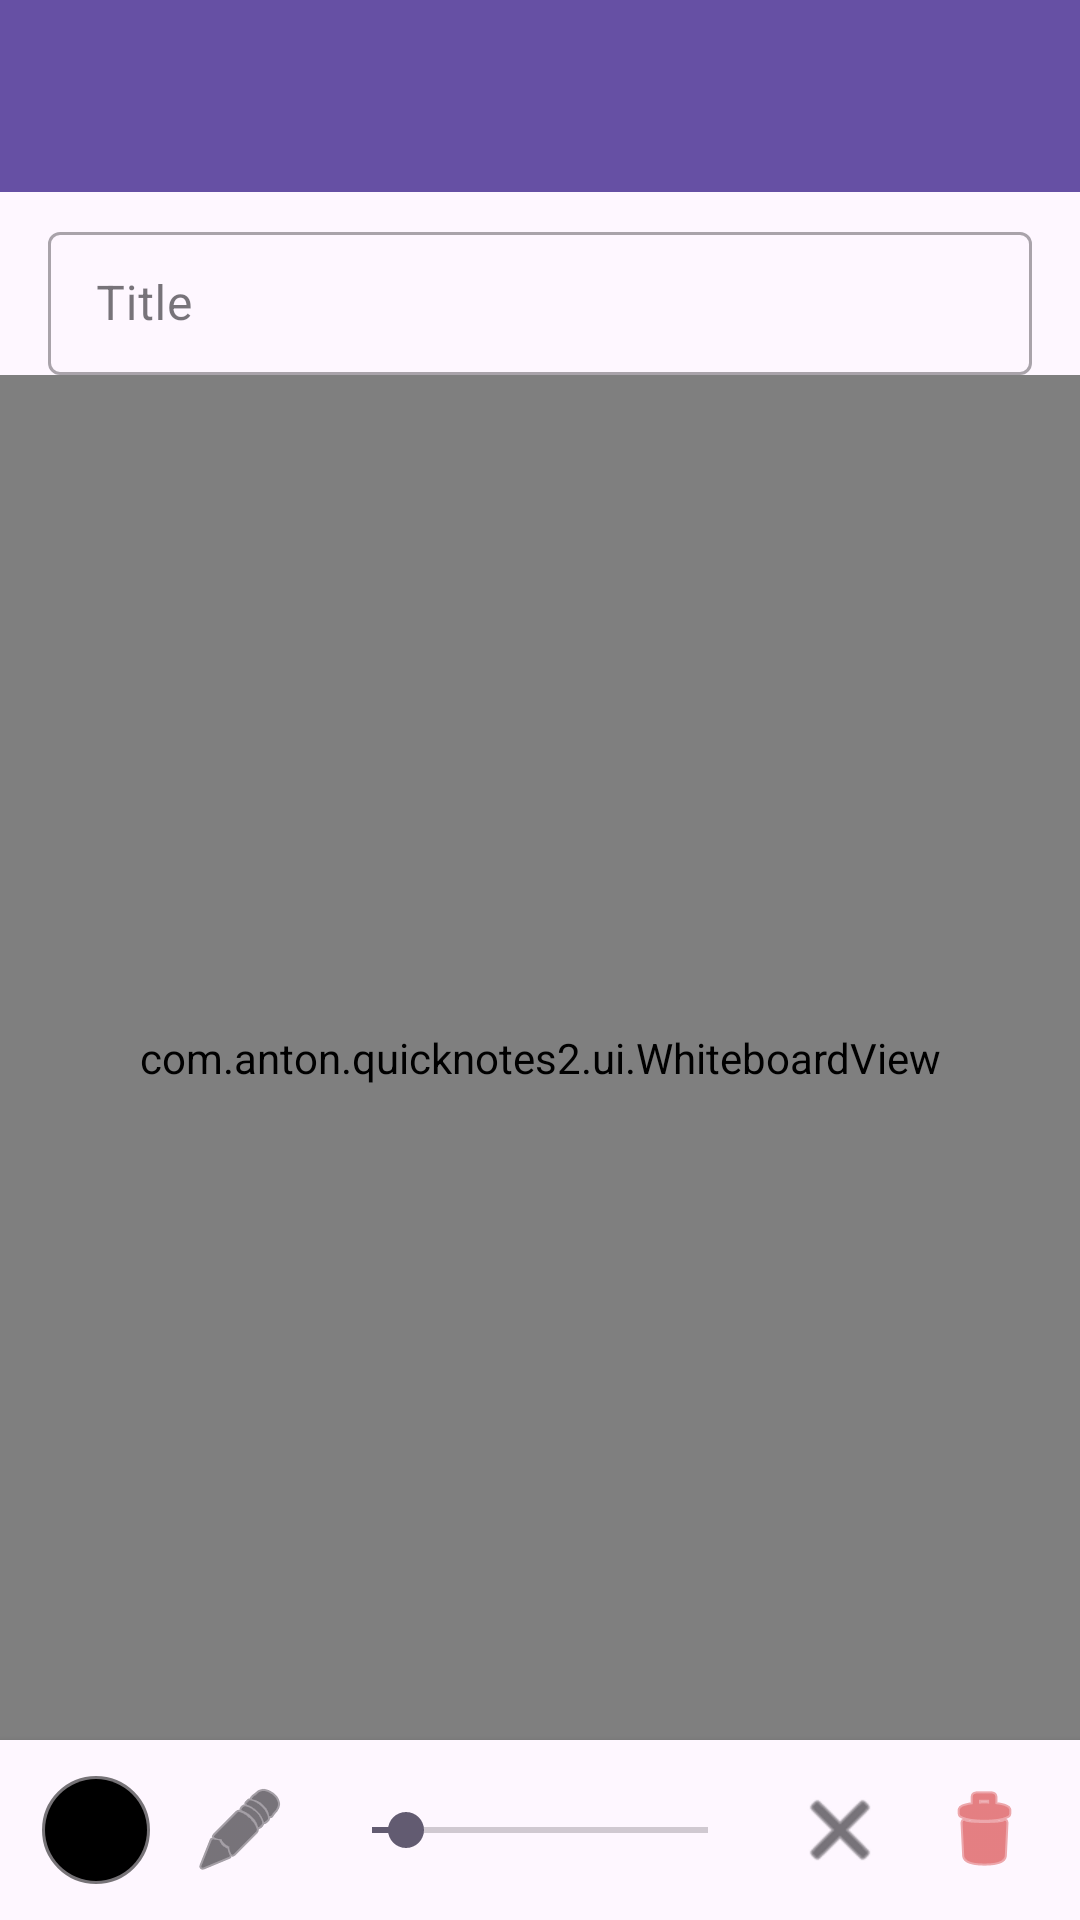

Point at icon controls on the screen. Image size 1080 × 1920, points as point (x, y).
Pen: point (239, 1829)
